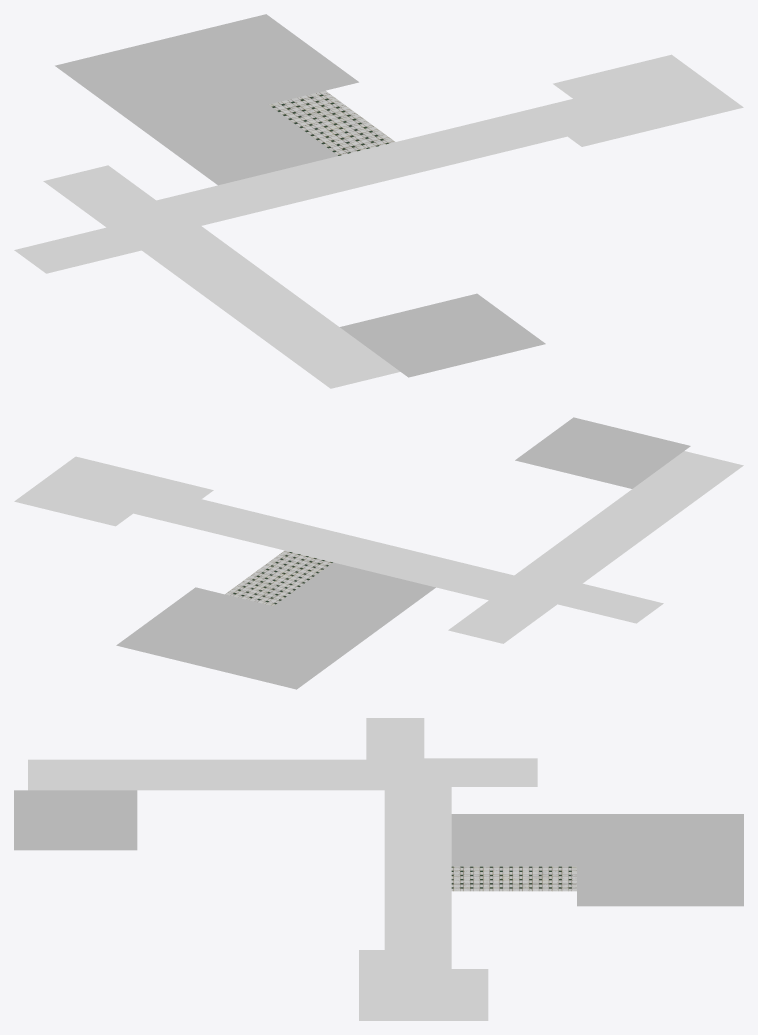
Rendered from 4th Floor_Ground.fbx.
The picture shows the model from 3 angles, top to bottom: view 1: azimuth 30°, elevation 25°; view 2: azimuth 150°, elevation 25°; view 3: azimuth 270°, elevation 25°; orthographic projection. The views are drawn at different scales.
Parts seen in each view (by area): view 1: Floor; view 2: Floor; view 3: Floor.
Boxes of the visible parts, x1,y1,x2,y2 form: Floor: (14,14,743,388); Floor: (14,417,743,689); Floor: (14,718,743,1020).
Size of the model in its own units: 2552 by 0.000424 by 2600.
